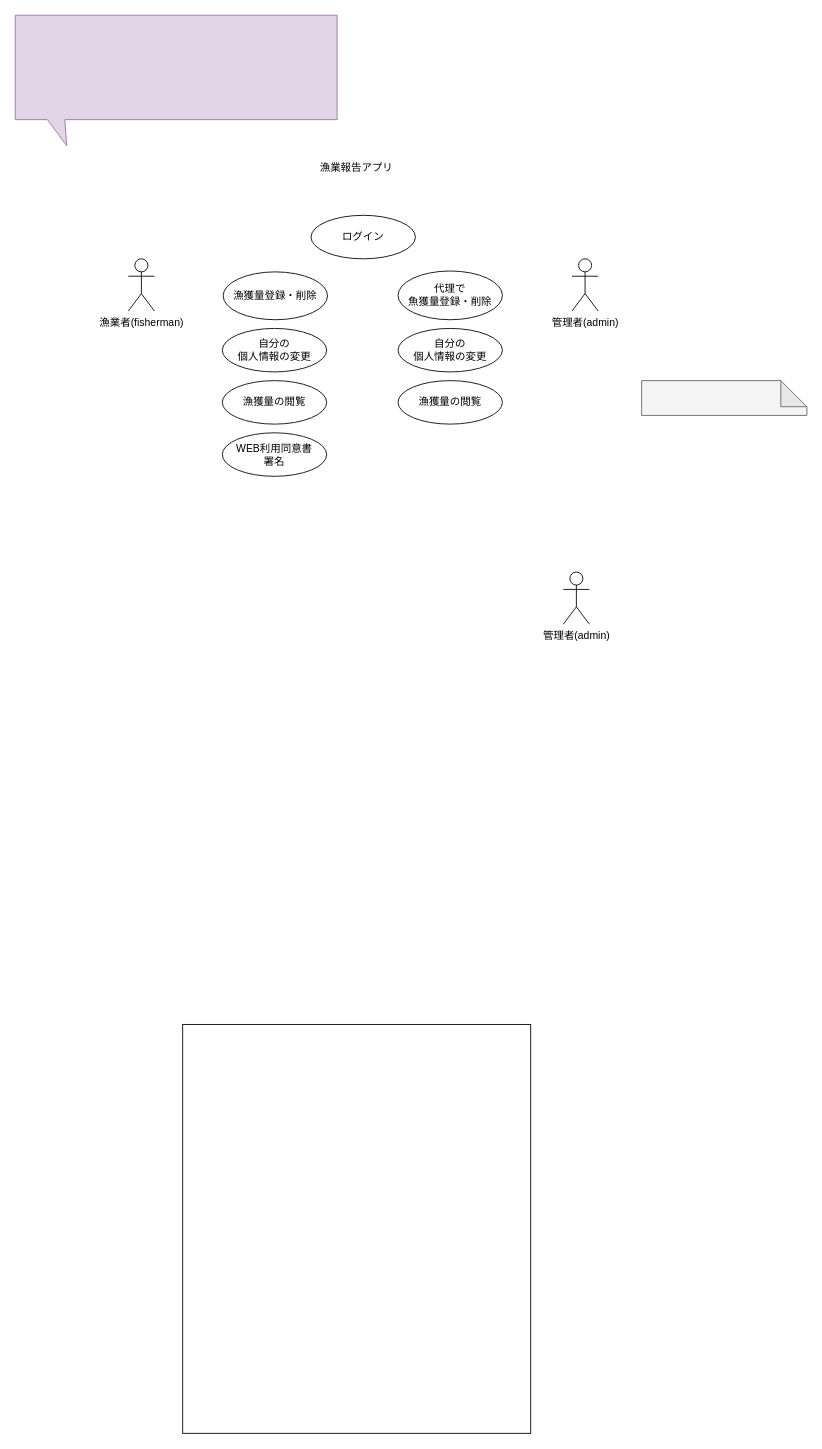
Some shapes in this 822 by 1449 pixel diagram are drawn without their labels. Each missing label, with the centre of its shape:
"ユースケース図 登場人物がシステムで何をするか整理したず" belongs at point (175, 80).
"全ての漁獲量閲覧可能" belongs at point (724, 397).
